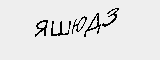Б: (45, 24, 66, 43)
Л: (103, 21, 122, 37)
Ч: (67, 26, 88, 42)
Ш: (13, 23, 42, 43)
Я: (119, 21, 140, 37)
Ң: (89, 22, 105, 40)
